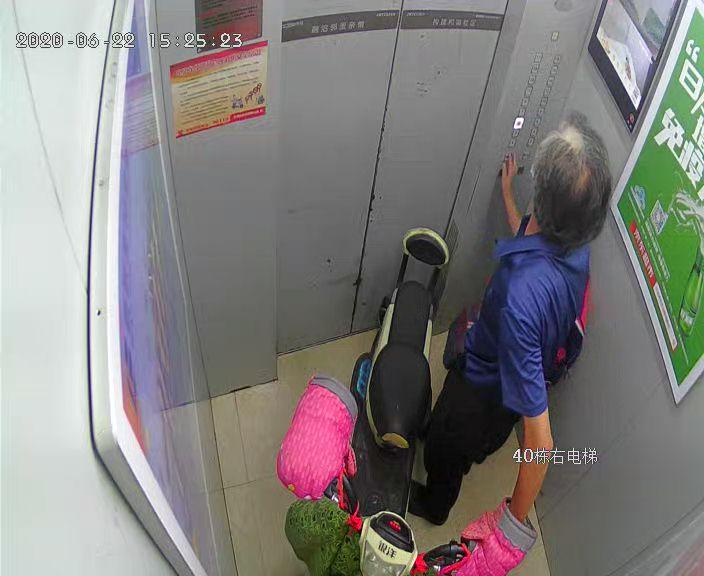Electric-bicycle: (275, 225, 509, 573)
